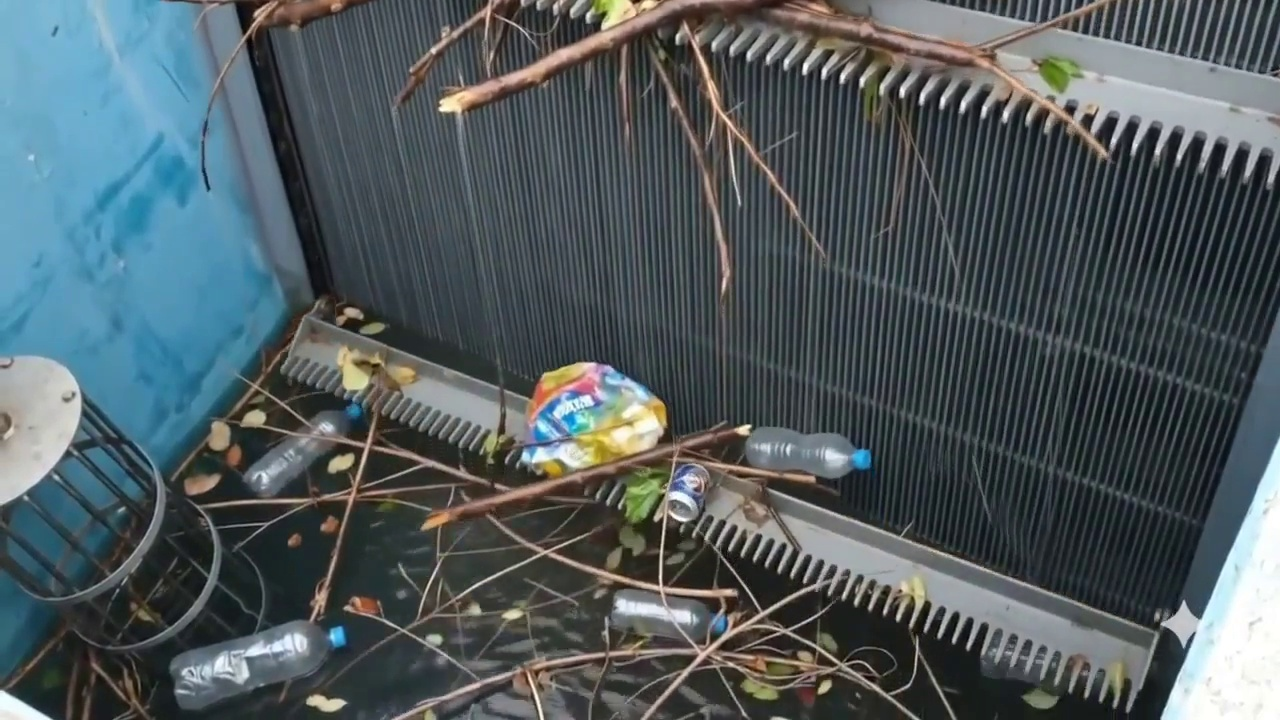debris: (145, 343, 949, 719)
